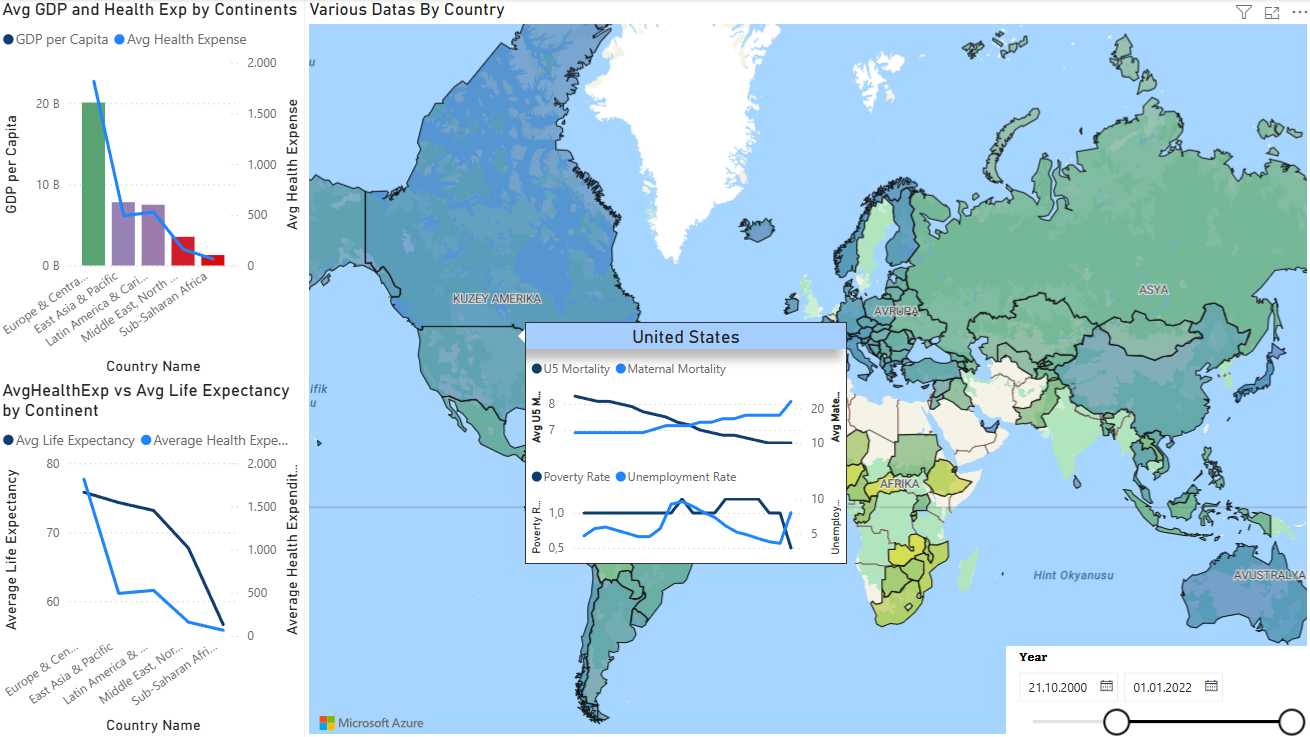

This screenshot's page, from the dashboard's own definition file:
{"tool":"powerbi","page":{"name":"MainPage","canvas":[1280,720],"ordinal":0},"visuals":[{"type":"azureMap","fields":{"Category":["wdi_UlkeData.Country Name"]},"box":[298.6,0,981.4,719.8],"z":0},{"type":"slicer","fields":{"Values":["wdi_UlkeData.Year"]},"box":[981.4,629.3,298.6,90.5],"z":1000},{"type":"lineClusteredColumnComboChart","title":"Avg GDP and Health Exp by Continents","fields":{"Category":["wdi_CONTTT.Country Name"],"Y":["Avg(wdi_CONTTT.gdp_per_capita)"],"Y2":["Avg(wdi_continenthealth.health_exp)"]},"box":[0,0,298.6,370.6],"z":2000},{"type":"lineChart","title":"AvgHealthExp vs Avg Life Expectancy by Continent","fields":{"Y":["Avg(wdi_CONTTT.life_expectancy)"],"Category":["wdi_CONTTT.Country Name"],"Y2":["Avg(wdi_continenthealth.health_exp)"]},"box":[0,370.6,298.6,349.2],"z":3000}]}

Visuals, with their boxes in screenshot pixels (x1, y1, x2, y2), scaled from the page's 1280x720 canvas onto the 1310x737 screenshot:
azureMap - wdi_UlkeData.Country Name: [306,0,1309,736]
slicer - wdi_UlkeData.Year: [1004,644,1309,736]
"Avg GDP and Health Exp by Continents" lineClusteredColumnComboChart: [0,0,306,379]
"AvgHealthExp vs Avg Life Expectancy by Continent" lineChart: [0,379,306,736]
